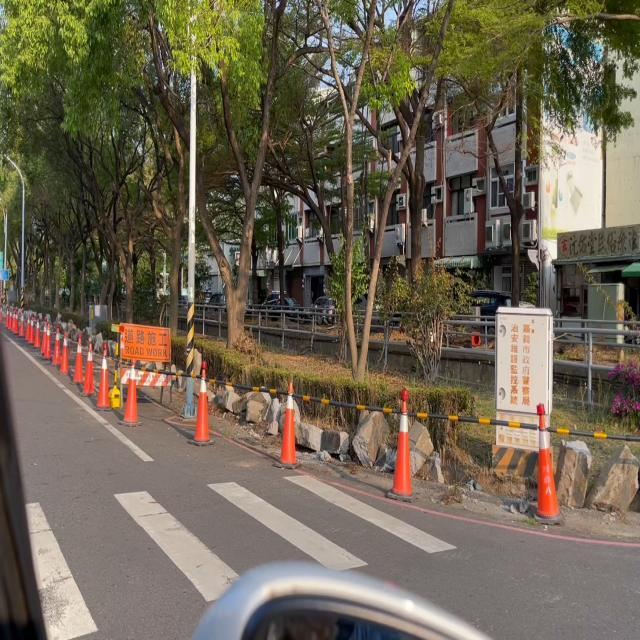traffic cone: (533, 402, 564, 527), (385, 384, 417, 501), (186, 360, 216, 447), (272, 384, 301, 470), (117, 376, 144, 428), (94, 355, 112, 412), (81, 341, 97, 397), (109, 367, 122, 410), (199, 360, 208, 380)
